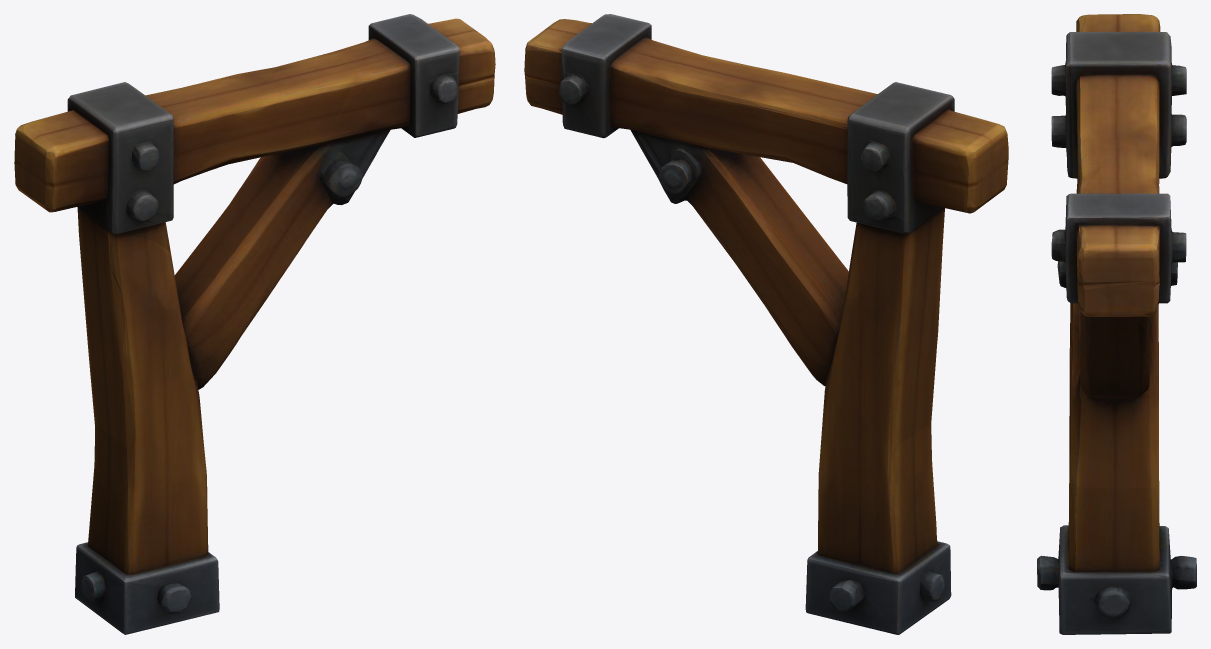
Rendered from d_mine_etai.glb.
3 views of the same model, side by side, from view 1: azimuth 30°, elevation 25°; view 2: azimuth 150°, elevation 25°; view 3: azimuth 270°, elevation 25° (orthographic). The views are drawn at different scales.
Visible parts, largest first — view 1: geometry_0; view 2: geometry_0; view 3: geometry_0.
Boxes of the visible parts, x1,y1,x2,y2 form: geometry_0: [14, 14, 495, 634]; geometry_0: [524, 14, 1008, 634]; geometry_0: [1037, 14, 1196, 634].
Bounding box in the file's own units: 0.9304 × 1 × 0.2638.
Materials: 1 (1 with a texture image).
